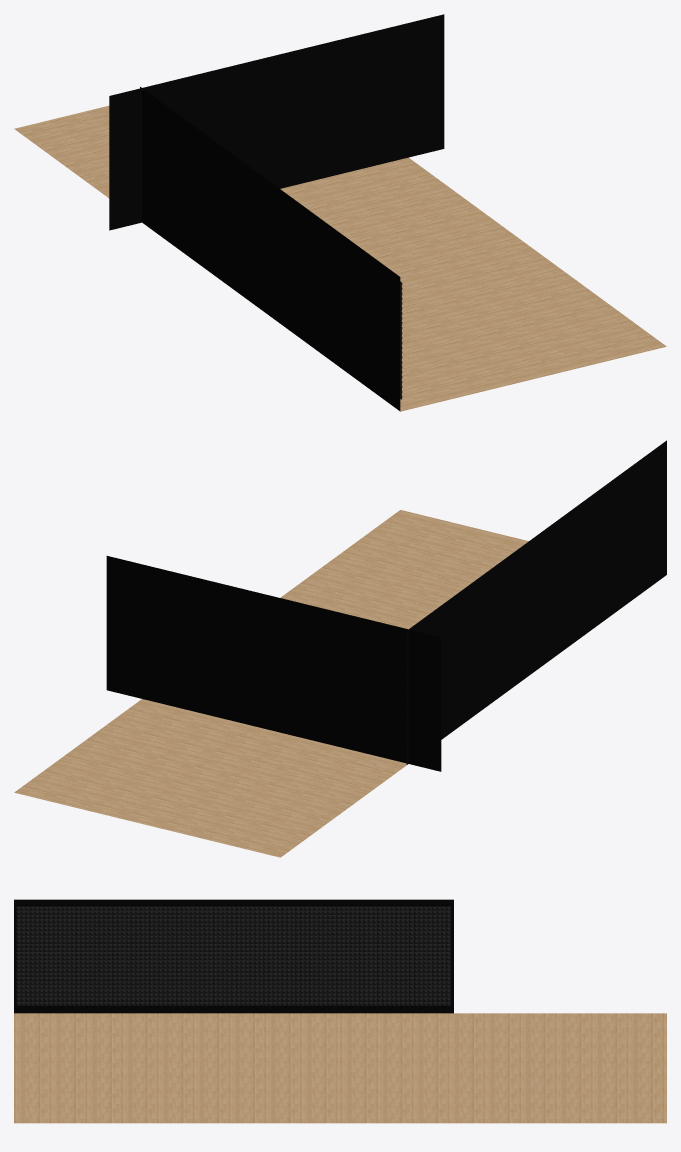
File: studio.min.glb
The picture shows the model from 3 angles, top to bottom: view 1: azimuth 30°, elevation 25°; view 2: azimuth 150°, elevation 25°; view 3: azimuth 270°, elevation 25°; orthographic projection. The views are drawn at different scales.
Visible parts, largest first — view 1: Object_7.002, Object_7, Object_5.001, Object_7.001, Object_5.002; view 2: Object_7.002, Object_5.002, Object_7, Object_7.001, Object_5.001; view 3: Object_5.001, Object_5.002, Object_7, Object_7.001, foam.017_foam_0.006, foam.017_foam_0.011, foam.017_foam_0.012, foam.017_foam_0.024, foam.017_foam_0.016, foam.017_foam_0.001, foam.017_foam_0.003, foam.017_foam_0.005 (+28 smaller).
Part boxes in pixels (x1,y1,x2,y2): Object_7.002: [109, 14, 444, 230]; Object_7: [140, 87, 400, 411]; Object_5.001: [345, 205, 666, 411]; Object_7.001: [207, 136, 400, 410]; Object_5.002: [14, 105, 473, 236]; Object_7.002: [106, 556, 441, 771]; Object_5.002: [14, 699, 406, 857]; Object_7: [406, 440, 666, 764]; Object_7.001: [473, 441, 666, 715]; Object_5.001: [280, 510, 528, 629]; Object_5.001: [14, 1013, 340, 1123]; Object_5.002: [340, 1013, 666, 1123]; Object_7: [14, 899, 453, 1013]; Object_7.001: [14, 899, 340, 1013]; foam.017_foam_0.006: [89, 906, 126, 939]; foam.017_foam_0.011: [89, 939, 126, 972]; foam.017_foam_0.012: [162, 906, 199, 939]; foam.017_foam_0.024: [162, 939, 199, 972]; foam.017_foam_0.016: [16, 906, 52, 939]; foam.017_foam_0.001: [16, 939, 52, 972]; foam.017_foam_0.003: [53, 906, 89, 939]; foam.017_foam_0.005: [53, 939, 89, 972].
Size of the model in its own units: 22.16 by 8.52 by 44.31.
Materials: 41 (38 with a texture image).
